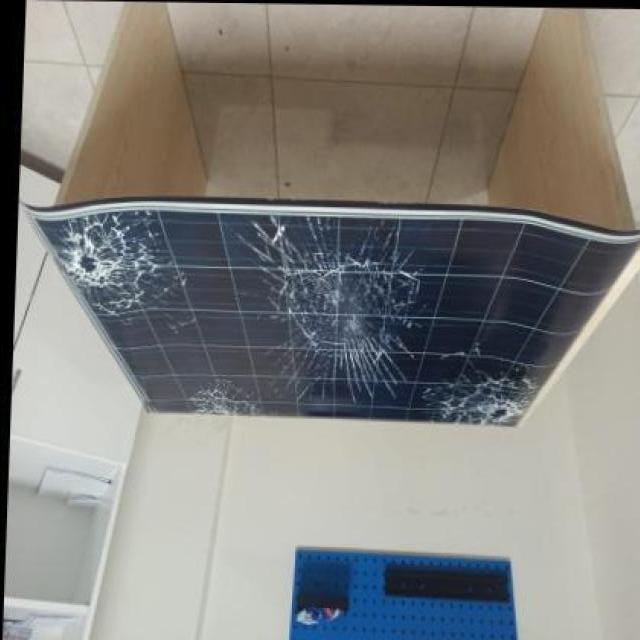cracked: (30, 195, 636, 433)
